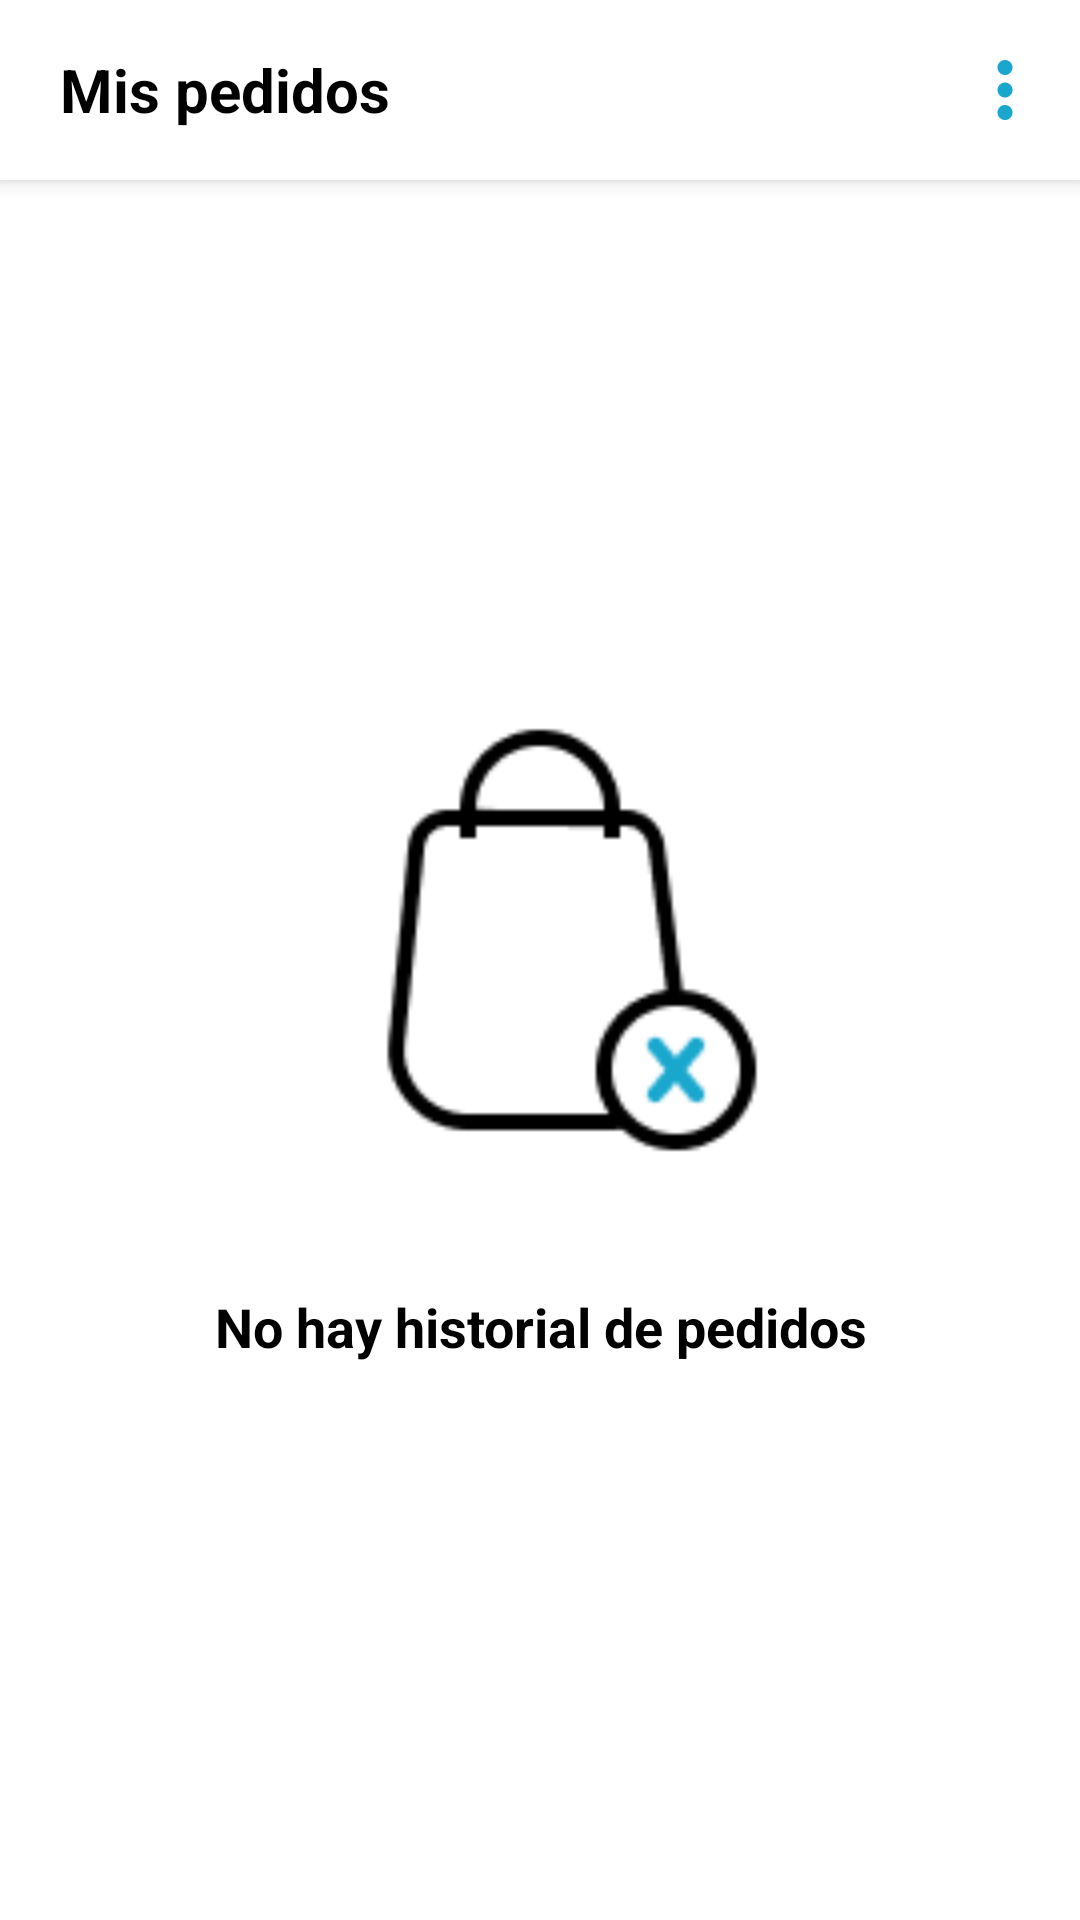

Named icons in this screenshot (1080 x 1920) and their centers, point (x, y):
puntos: point (1005, 90)
